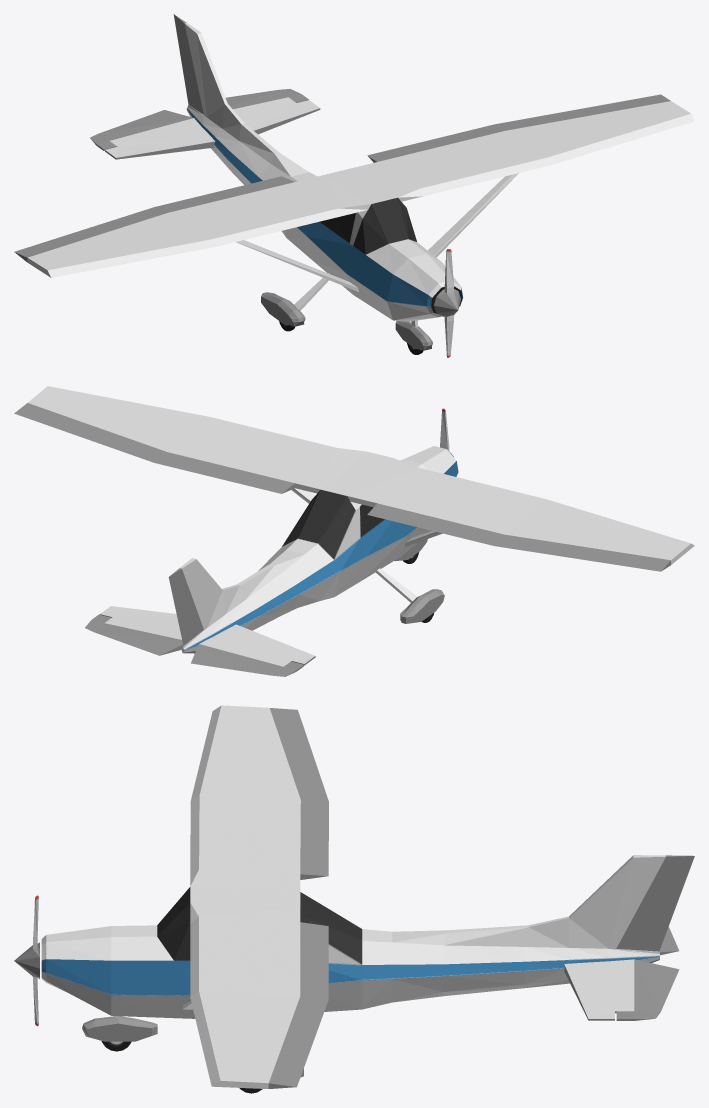
The picture shows the model from 3 angles, top to bottom: view 1: azimuth 30°, elevation 25°; view 2: azimuth 150°, elevation 25°; view 3: azimuth 270°, elevation 25°; orthographic projection. The views are drawn at different scales.
Parts seen in each view (by area): view 1: Body_Plane_0, Stabilizer_Plane_0, Elevator_Plane_0, RightAileron_Plane_0, LeftAileron_Plane_0, LeftFlap_Plane_0, RightFlap_Plane_0, Propeller_Plane_0, Rudder_Plane_0; view 2: Body_Plane_0, Stabilizer_Plane_0, Elevator_Plane_0, RightAileron_Plane_0, LeftAileron_Plane_0, LeftFlap_Plane_0, RightFlap_Plane_0, Rudder_Plane_0; view 3: Body_Plane_0, Rudder_Plane_0, Stabilizer_Plane_0, LeftAileron_Plane_0, RightAileron_Plane_0, Elevator_Plane_0, RightFlap_Plane_0, LeftFlap_Plane_0, Propeller_Plane_0.
Boxes of the visible parts, x1,y1,x2,y2 form: Body_Plane_0: (27, 23, 694, 350); Stabilizer_Plane_0: (105, 97, 320, 159); Elevator_Plane_0: (90, 89, 308, 150); RightAileron_Plane_0: (14, 207, 167, 261); LeftAileron_Plane_0: (495, 94, 670, 130); LeftFlap_Plane_0: (367, 124, 503, 162); RightFlap_Plane_0: (155, 176, 294, 212); Propeller_Plane_0: (434, 249, 460, 357); Rudder_Plane_0: (173, 14, 203, 114); Body_Plane_0: (28, 386, 694, 653); Stabilizer_Plane_0: (99, 606, 315, 666); Elevator_Plane_0: (85, 614, 303, 676); RightAileron_Plane_0: (494, 534, 670, 571); LeftAileron_Plane_0: (14, 403, 167, 462); LeftFlap_Plane_0: (155, 452, 294, 493); RightFlap_Plane_0: (367, 503, 503, 545); Rudder_Plane_0: (168, 568, 203, 645); Body_Plane_0: (41, 705, 665, 1088); Rudder_Plane_0: (616, 855, 694, 951); Stabilizer_Plane_0: (564, 959, 634, 1020); LeftAileron_Plane_0: (268, 996, 328, 1088); RightAileron_Plane_0: (270, 708, 328, 801); Elevator_Plane_0: (616, 927, 679, 1020); RightFlap_Plane_0: (300, 800, 328, 879); LeftFlap_Plane_0: (300, 922, 328, 1000); Propeller_Plane_0: (14, 895, 39, 1026).
Bounding box in the file's own units: 11.02 × 2.65 × 8.4.
